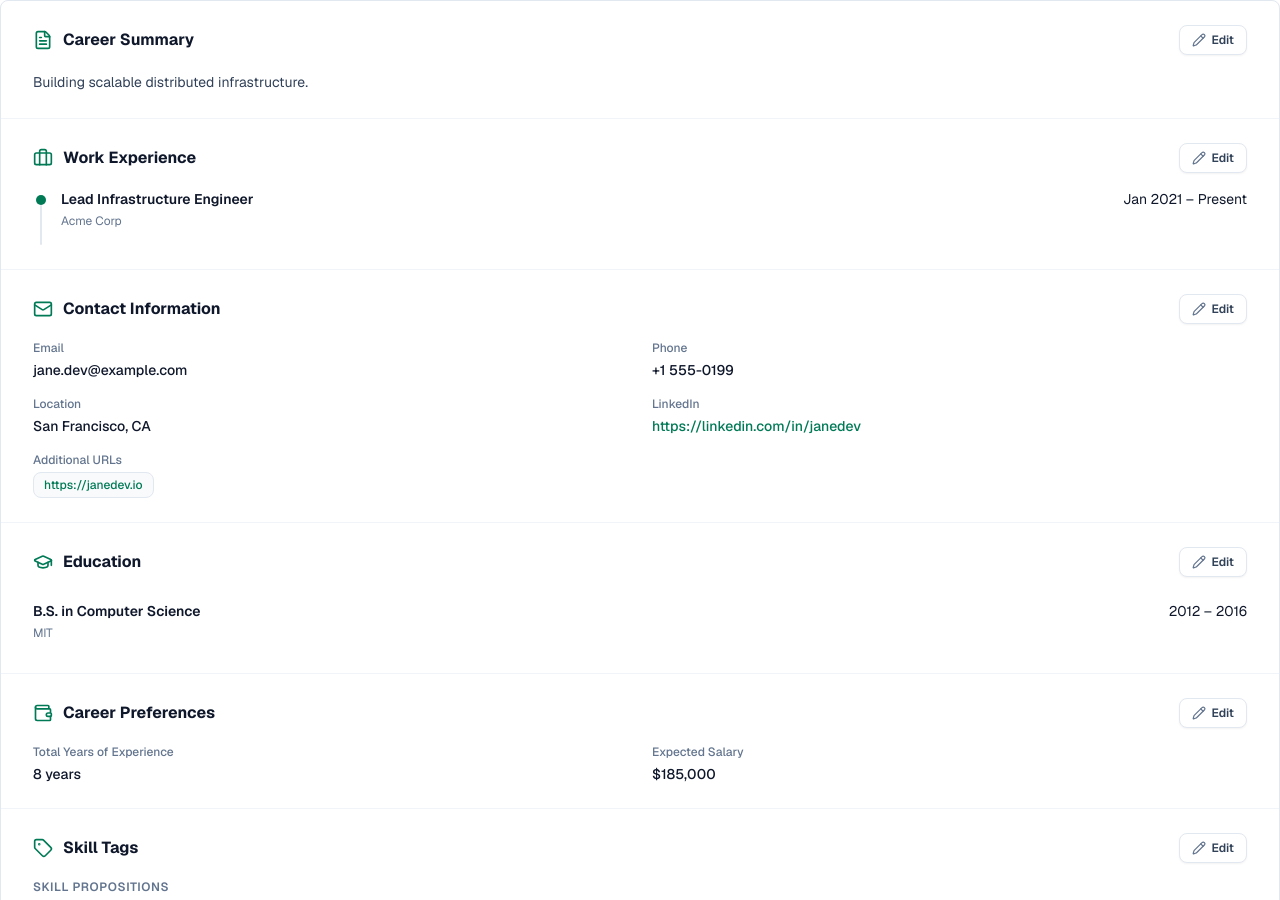
Test: OverviewTabContent › opens EditWorkExperienceDialog when clicking Edit on Work Experience
Step 1. Click the button with aria-label "Edit Work Experience" → (1213, 158), box [1179, 143, 1247, 173]
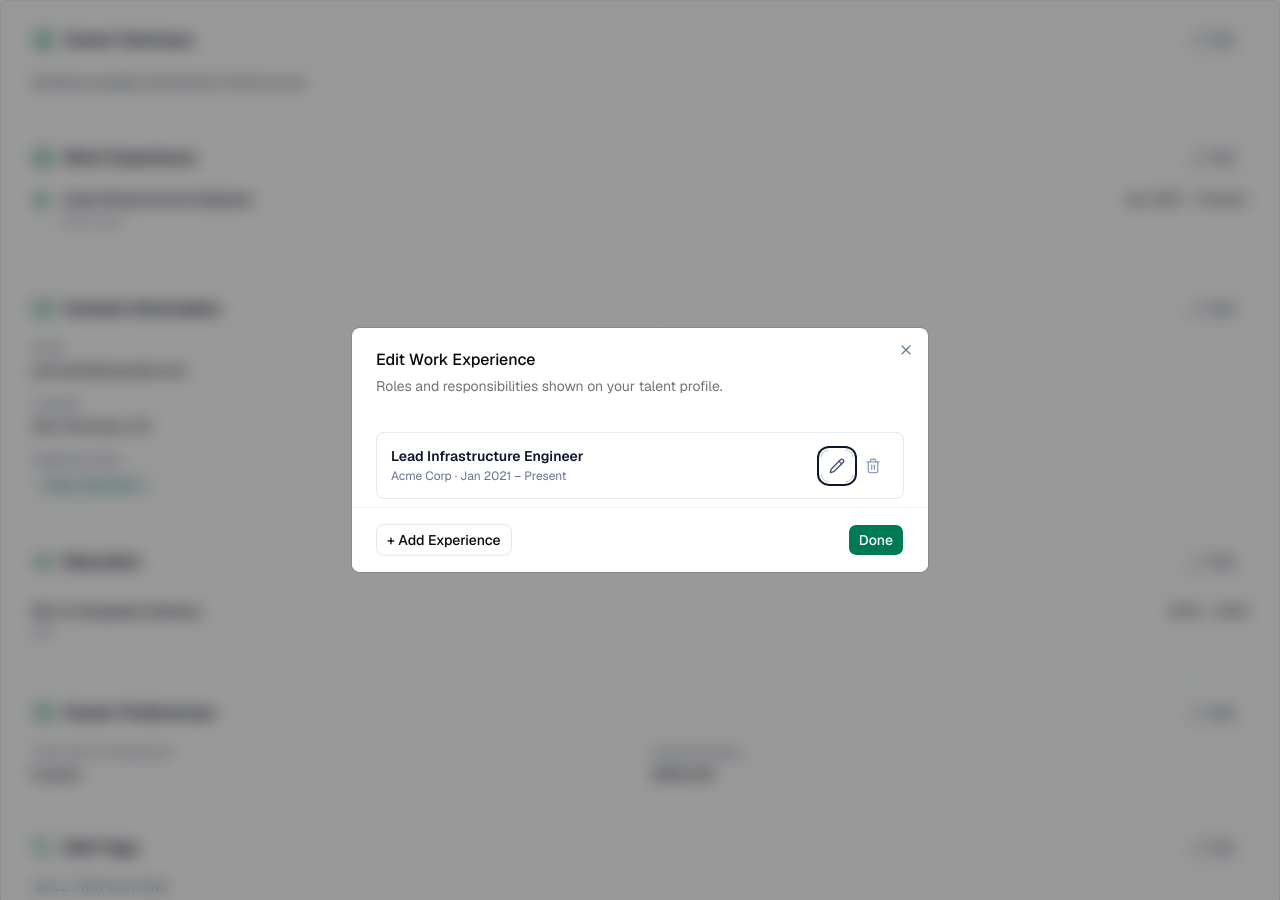
Now the heading "Edit Work Experience" is shown, box [376, 349, 536, 370]
